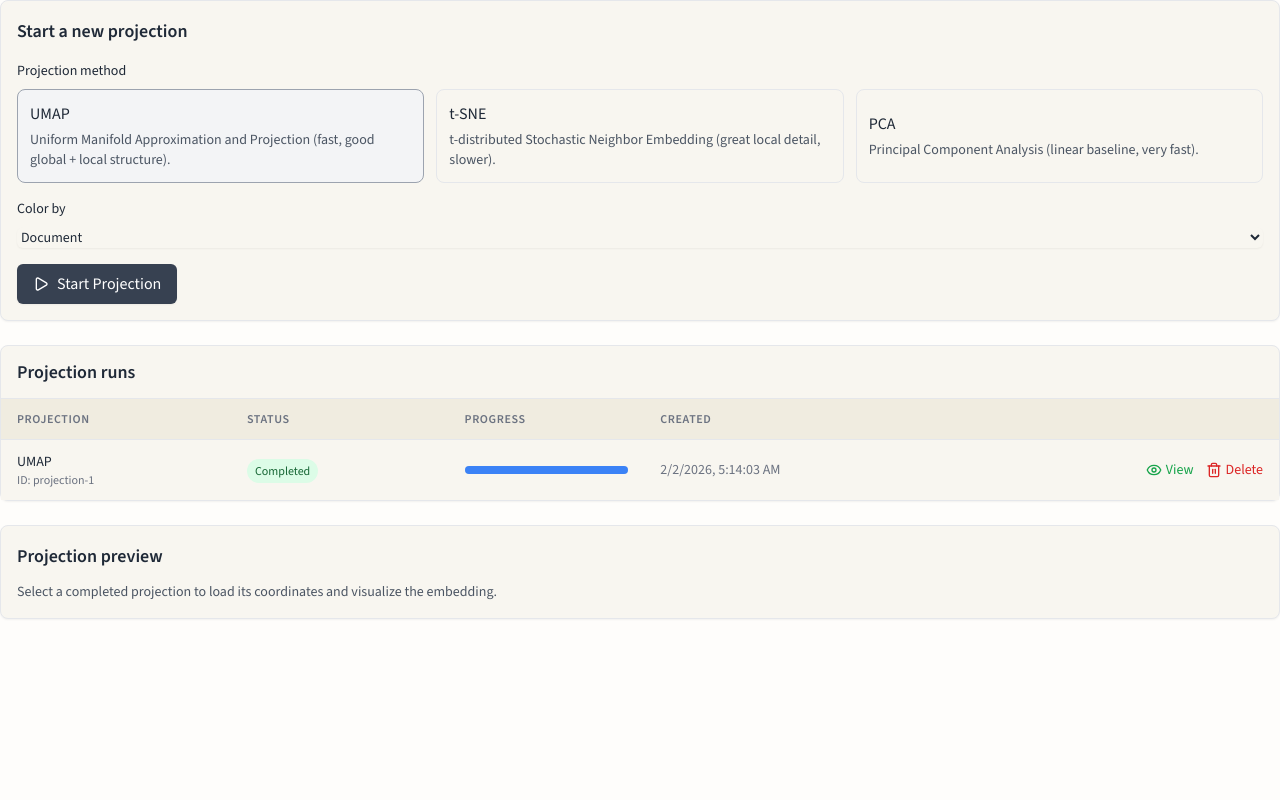
Scenario: EmbeddingVisualizationTab › shows an error message when projection arrays are inconsistent
The width and height of the screenshot is (1280, 800).
What coordinates should you click on to do the following:
click the button "View"
I would click on:
 (1170, 470)
Its box is [1146,460,1194,480].
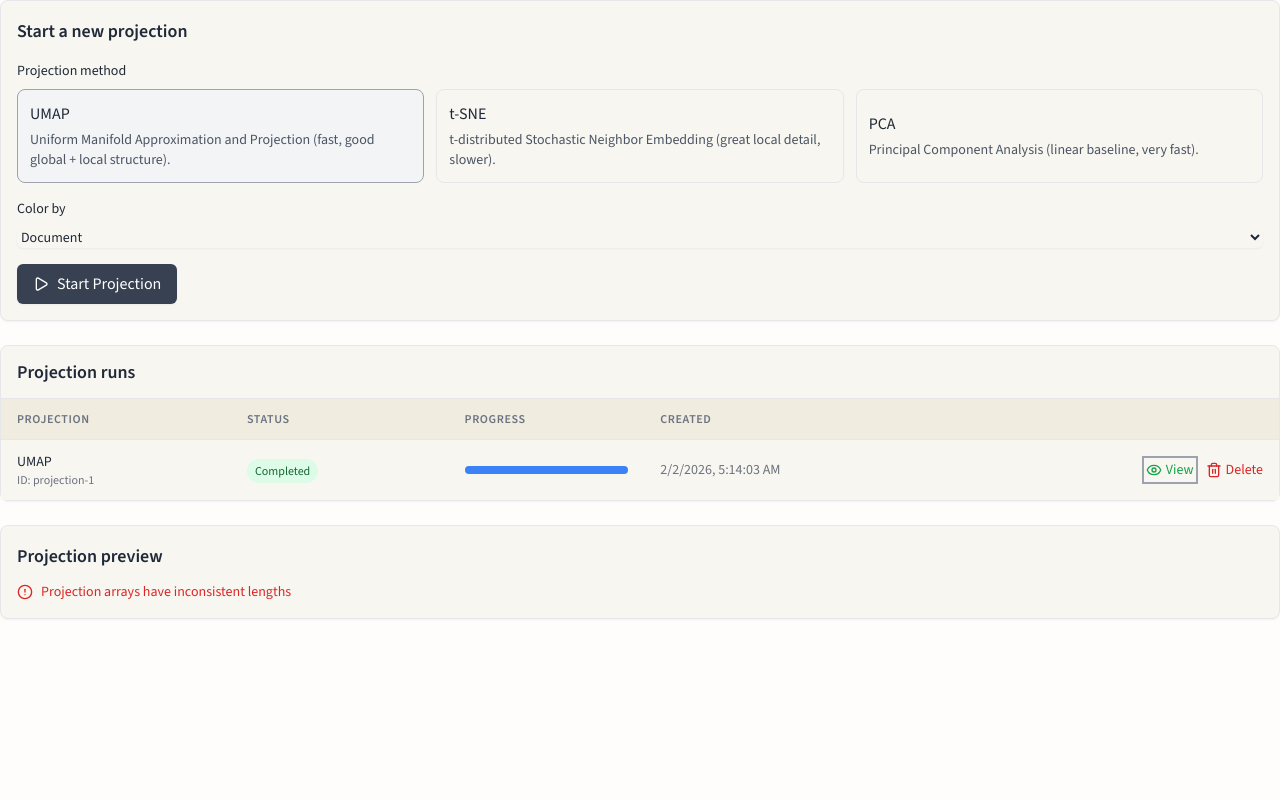
Result: the text "Projection arrays have inconsistent lengths" is shown at [17,582,291,601]
